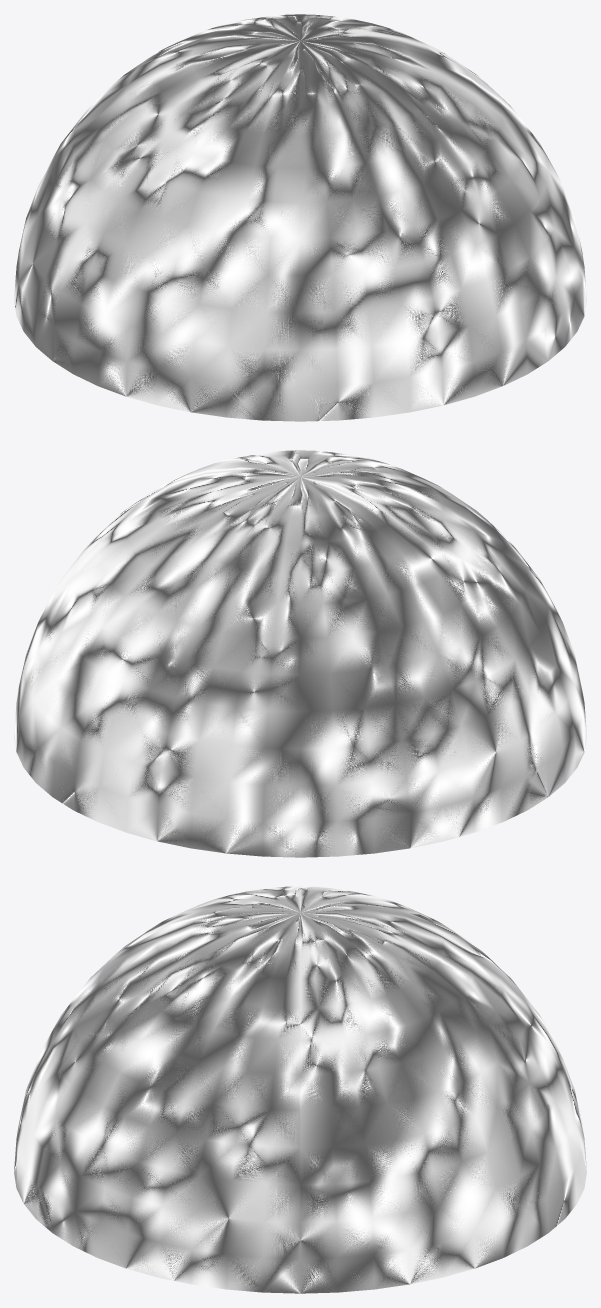
Rendered from ShockwaveDome.fbx.
3 views of the same model, one above another, from view 1: azimuth 30°, elevation 25°; view 2: azimuth 150°, elevation 25°; view 3: azimuth 270°, elevation 25° (orthographic).
Visible parts, largest first — view 1: ShockwaveDome; view 2: ShockwaveDome; view 3: ShockwaveDome.
Part boxes in pixels (x1,y1,x2,y2): ShockwaveDome: (14,14,586,421); ShockwaveDome: (14,450,586,857); ShockwaveDome: (14,886,586,1293).
Bounding box in the file's own units: 2 × 1 × 2.
1 material, 1 textured.
